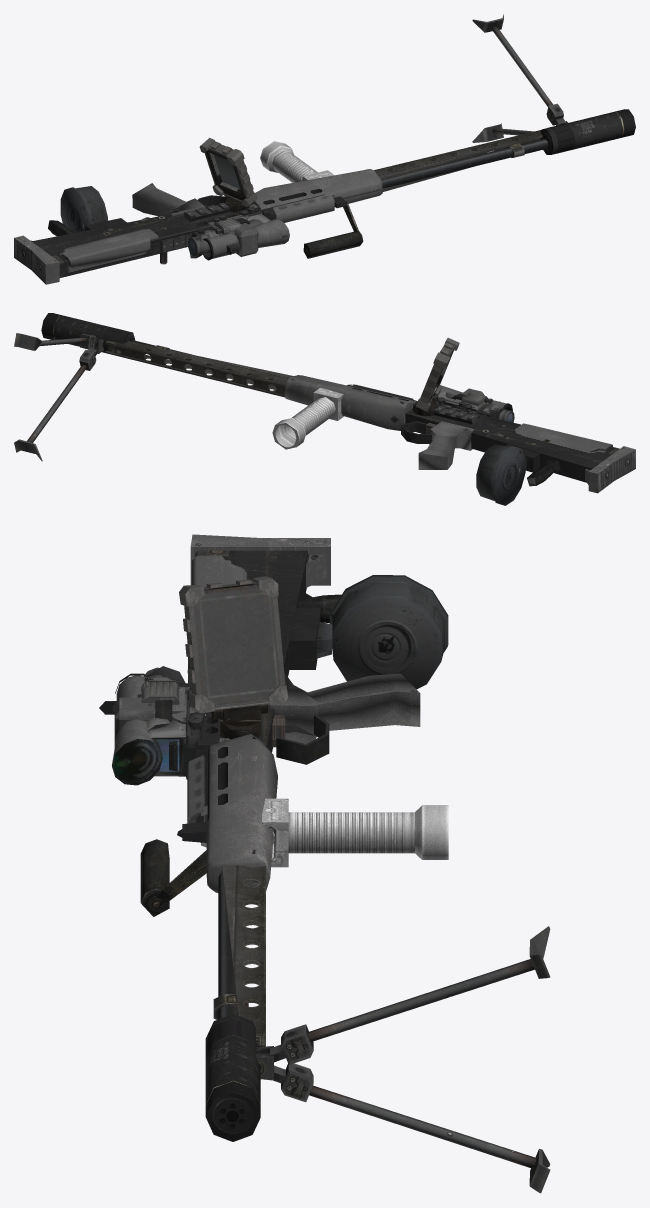
The model's file is weapon_sa80_lmg_desert_LOD0.obj.
3 views of the same model, one above another, from view 1: azimuth 30°, elevation 25°; view 2: azimuth 150°, elevation 25°; view 3: azimuth 270°, elevation 25° (orthographic). The views are drawn at different scales.
Parts seen in each view (by area): view 1: mtl_weapon_sa80_desert, mtl_weapon_suppressor_b, mtl_weapon_motion_tracker_desert, mtl_weapon_sa80_lmg, mtl_weapon_sa80_scope_desert, mtl_weapon_sa80_lmg_alpha, mtl_weapon_drum_magazine, mtl_weapon_scar_h_foregrip, mtl_weapon_mg_handle, mtl_weapon_acog_2_desert, mtl_weapon_thermal_sight_2_desert; view 2: mtl_weapon_sa80_desert, mtl_weapon_sa80_lmg_alpha, mtl_weapon_sa80_lmg, mtl_weapon_drum_magazine, mtl_weapon_scar_h_foregrip, mtl_weapon_suppressor_b, mtl_weapon_motion_tracker_desert, mtl_weapon_thermal_sight_2_desert, mtl_weapon_sa80_scope_desert, mtl_weapon_acog_2_desert; view 3: mtl_weapon_sa80_desert, mtl_weapon_motion_tracker_desert, mtl_weapon_drum_magazine, mtl_weapon_sa80_lmg, mtl_weapon_scar_h_foregrip, mtl_weapon_suppressor_b, mtl_weapon_sa80_lmg_alpha, mtl_weapon_sa80_scope_desert, mtl_weapon_mg_handle, mtl_weapon_red_dot_sight_desert, mtl_weapon_thermal_sight_2_desert.
Boxes of the visible parts, x1,y1,x2,y2 form: mtl_weapon_sa80_desert: (14,139,548,284); mtl_weapon_suppressor_b: (540,109,635,154); mtl_weapon_motion_tracker_desert: (199,137,257,212); mtl_weapon_sa80_lmg: (48,14,568,236); mtl_weapon_sa80_scope_desert: (198,218,289,260); mtl_weapon_sa80_lmg_alpha: (374,130,542,191); mtl_weapon_drum_magazine: (60,186,107,232); mtl_weapon_scar_h_foregrip: (260,141,334,182); mtl_weapon_mg_handle: (303,201,363,258); mtl_weapon_acog_2_desert: (187,210,263,256); mtl_weapon_thermal_sight_2_desert: (189,214,241,258); mtl_weapon_sa80_desert: (131,340,635,493); mtl_weapon_sa80_lmg_alpha: (105,340,293,397); mtl_weapon_sa80_lmg: (14,333,561,486); mtl_weapon_drum_magazine: (476,444,526,505); mtl_weapon_scar_h_foregrip: (272,387,343,449); mtl_weapon_suppressor_b: (41,313,134,352); mtl_weapon_motion_tracker_desert: (413,337,459,416); mtl_weapon_thermal_sight_2_desert: (445,392,507,418); mtl_weapon_sa80_scope_desert: (440,385,512,417); mtl_weapon_acog_2_desert: (436,392,514,422); mtl_weapon_sa80_desert: (177,534,420,1019); mtl_weapon_motion_tracker_desert: (179,576,288,739); mtl_weapon_drum_magazine: (316,575,448,689); mtl_weapon_sa80_lmg: (213,592,550,1193); mtl_weapon_scar_h_foregrip: (262,798,448,867); mtl_weapon_suppressor_b: (205,1014,260,1141); mtl_weapon_sa80_lmg_alpha: (222,864,265,1046); mtl_weapon_sa80_scope_desert: (99,673,195,785); mtl_weapon_mg_handle: (140,839,206,916); mtl_weapon_red_dot_sight_desert: (147,689,202,779); mtl_weapon_thermal_sight_2_desert: (141,666,188,728).
Bounding box in the file's own units: 110 × 24.57 × 37.14.
